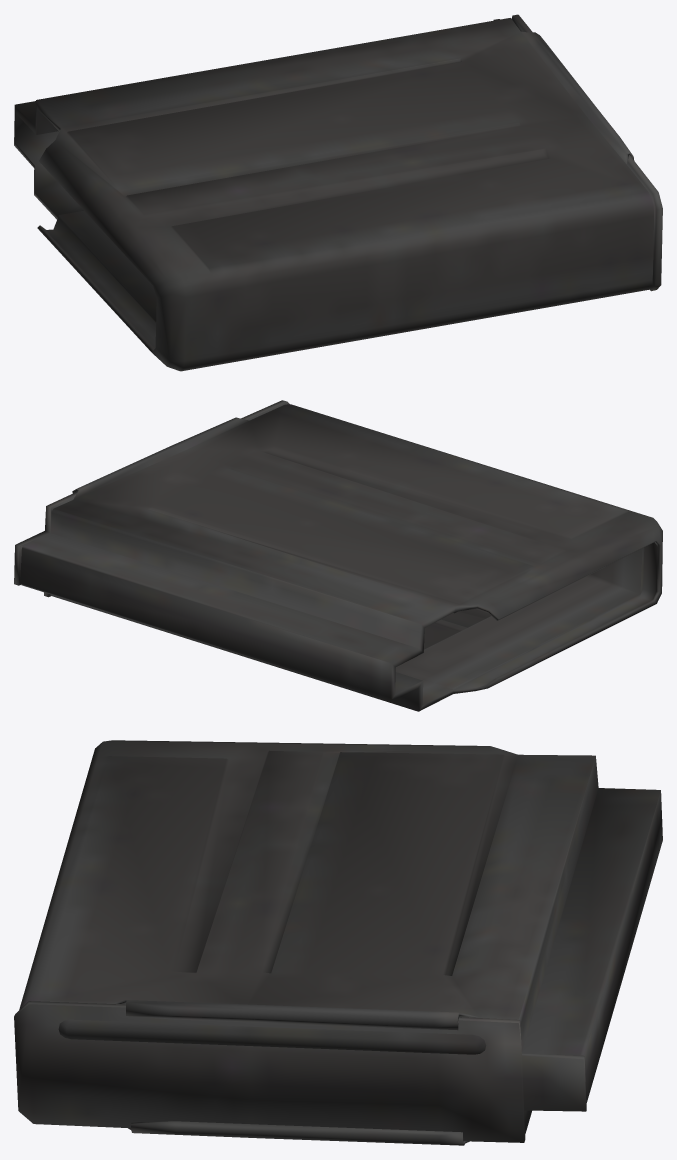
Rendered from 792Clip.fbx.
3 views of the same model, one above another, from view 1: azimuth 30°, elevation 25°; view 2: azimuth 150°, elevation 25°; view 3: azimuth 270°, elevation 25° (orthographic). The views are drawn at different scales.
Visible parts, largest first — view 1: Reciever Auto.001; view 2: Reciever Auto.001; view 3: Reciever Auto.001.
Part boxes in pixels (x1,y1,x2,y2): Reciever Auto.001: (14,14,662,371); Reciever Auto.001: (14,400,662,711); Reciever Auto.001: (14,740,662,1145).
Bounding box in the file's own units: 0.0808 × 0.0171 × 0.0703.
